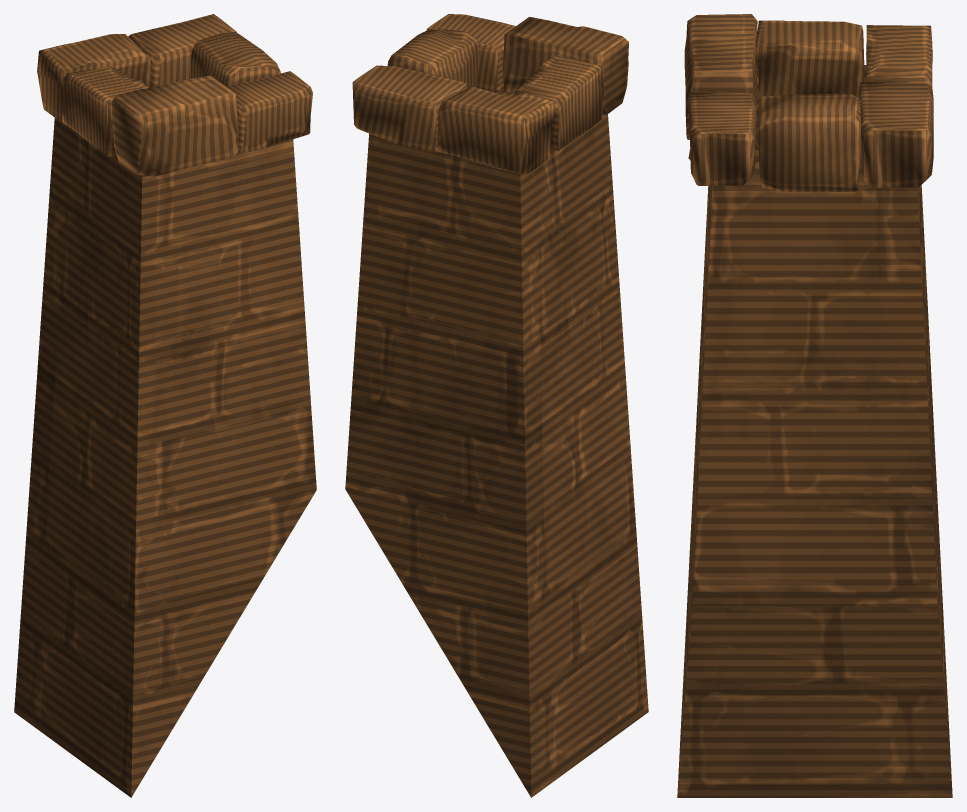
The picture shows the model from 3 angles, left to right: view 1: azimuth 30°, elevation 25°; view 2: azimuth 150°, elevation 25°; view 3: azimuth 270°, elevation 25°; orthographic projection. The views are drawn at different scales.
Visible parts, largest first — view 1: Prop_Chimney; view 2: Prop_Chimney; view 3: Prop_Chimney.
Part boxes in pixels (left/top/right/bottom): Prop_Chimney: left=14, top=14, right=316, bottom=797; Prop_Chimney: left=345, top=14, right=648, bottom=797; Prop_Chimney: left=677, top=14, right=952, bottom=797.
Size of the model in its own units: 0.9458 by 3.18 by 1.
Materials: 2 (2 with a texture image).
